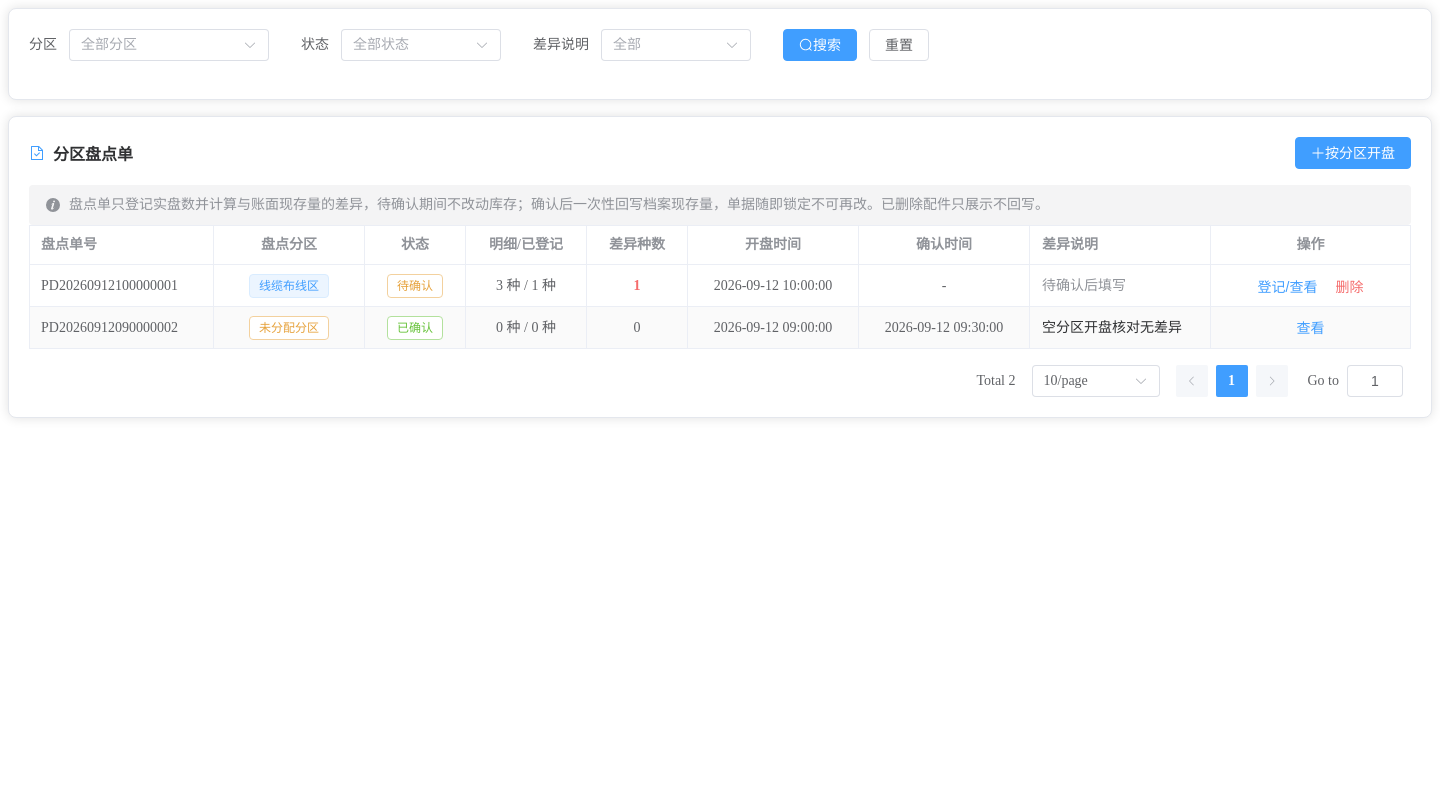
分区盘点 - 登记实盘与差异 › 详情展示账面快照、已登记实盘、差异标签，已删除配件只展示不可登记
Click the button "登记/查看": (1287, 287) x1=1254 y1=277 x2=1320 y2=297
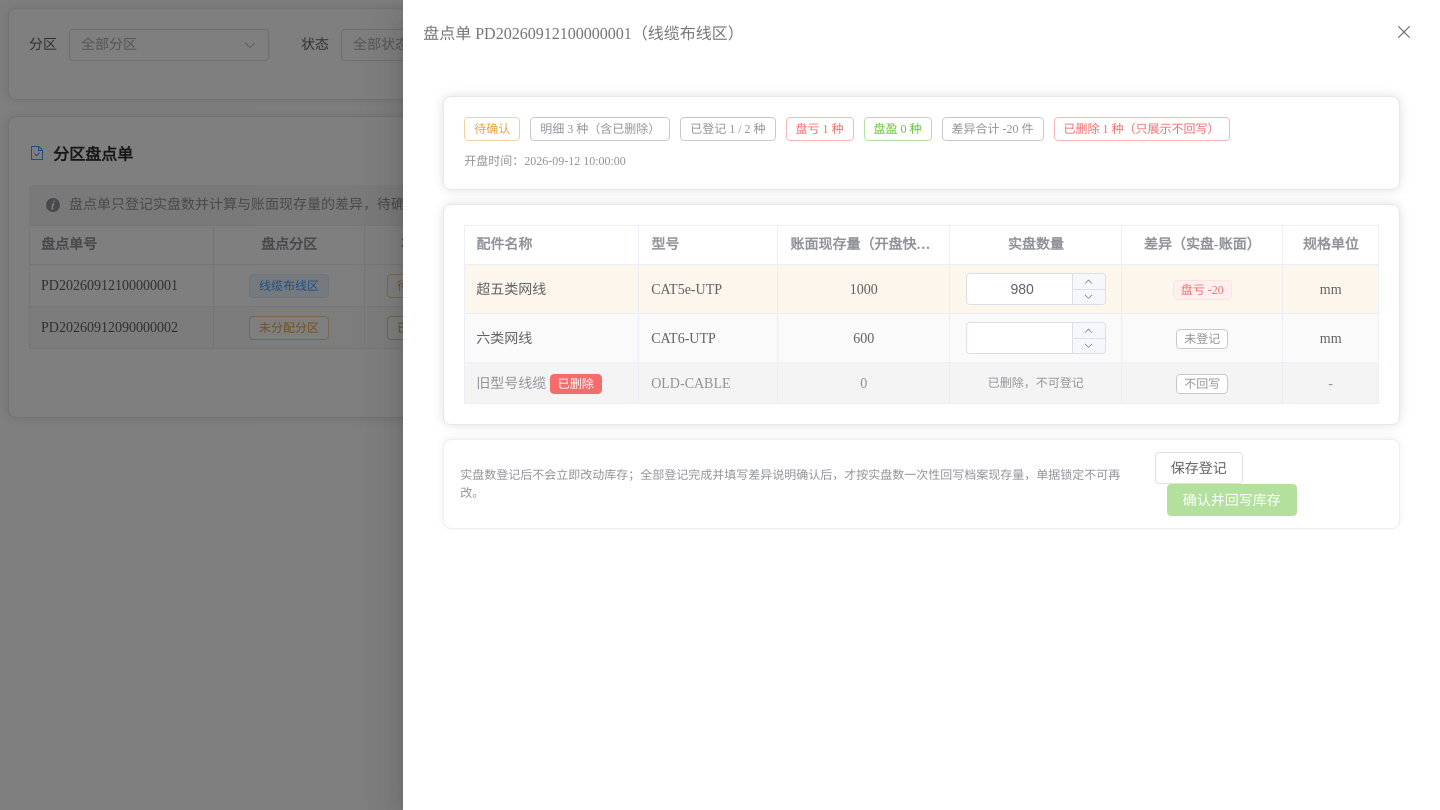
Check: the dialog is shown
Check: the dialog shows "PD20260912100000001", box x1=423 y1=25 x2=744 y2=42
Check: the dialog shows "盘亏 1 种", box x1=796 y1=122 x2=844 y2=136
